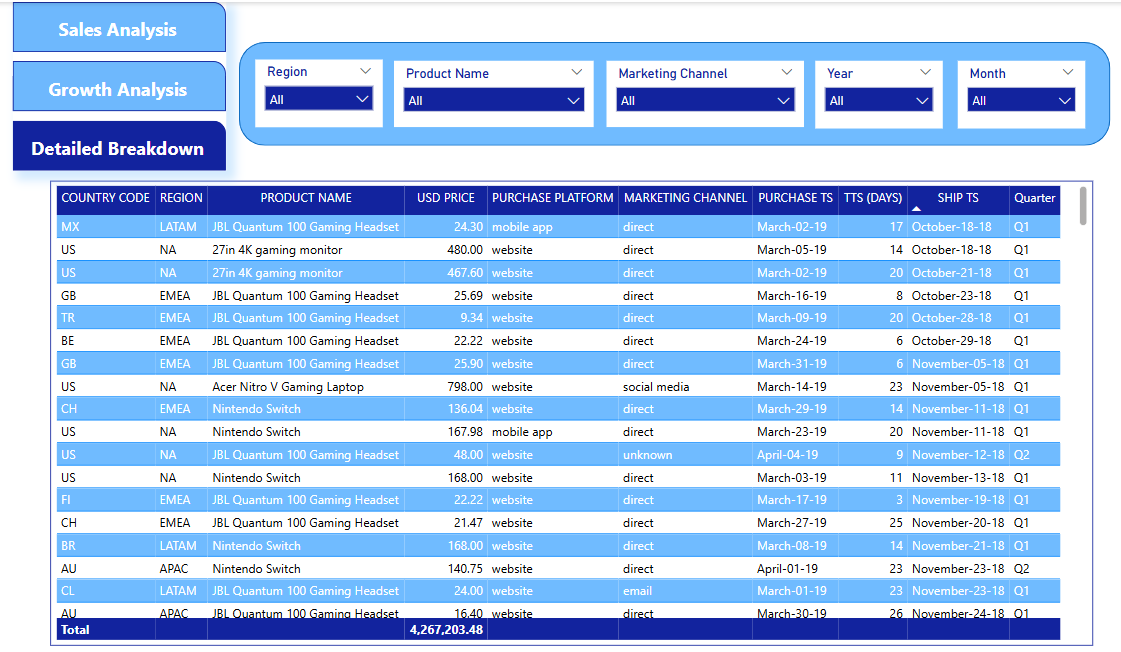

What the dashboard file says about the page in this screenshot:
{"tool":"powerbi","page":{"name":"Detailed Breakdown","canvas":[1280,720],"ordinal":2},"visuals":[{"type":"shape","box":[290.9,43.9,956.4,113.9],"z":0},{"type":"tableEx","fields":{"Values":["orders_cleaned.COUNTRY_CODE_CLEANED","region_cleaned.REGION","orders_cleaned.PRODUCT_NAME_CLEANED","Sum(orders_cleaned.USD_PRICE)","orders_cleaned.PURCHASE_PLATFORM","orders_cleaned.MARKETING_CHANNEL","orders_cleaned.PURCHASE_TS","orders_cleaned.TimeToShip(DAYS)","orders_cleaned.SHIP_TS","Date.Quarter"]},"box":[83.7,196.2,1144.4,510.5],"z":1000},{"type":"pageNavigator","box":[42.5,0,234.6,185.2],"z":2000},{"type":"slicer","fields":{"Values":["orders_cleaned.Year"]},"box":[924.1,64.5,140,74.1],"z":3000},{"type":"slicer","fields":{"Values":["orders_cleaned.Month"]},"box":[1080.5,64.5,140,74.1],"z":4000},{"type":"slicer","fields":{"Values":["region_cleaned.REGION"]},"box":[309.3,63.1,140,74.1],"z":5000},{"type":"slicer","fields":{"Values":["orders_cleaned.MARKETING_CHANNEL"]},"box":[694.9,64.5,216.8,72.7],"z":6000},{"type":"slicer","fields":{"Values":["orders_cleaned.PRODUCT_NAME_CLEANED"]},"box":[461.6,64.5,219.6,72.7],"z":7000}]}

Visuals, with their boxes on the page's 1280x720 design canvas (x1, y1, x2, y2). These are canvas units, not pixel positions in the 1121x652 screenshot, which may show the page scaled, cropped or inside an application window:
shape: region(291, 44, 1247, 158)
tableEx - orders_cleaned.COUNTRY_CODE_CLEANED x region_cleaned.REGION: region(84, 196, 1228, 707)
pageNavigator: region(42, 0, 277, 185)
slicer - orders_cleaned.Year: region(924, 64, 1064, 139)
slicer - orders_cleaned.Month: region(1080, 64, 1220, 139)
slicer - region_cleaned.REGION: region(309, 63, 449, 137)
slicer - orders_cleaned.MARKETING_CHANNEL: region(695, 64, 912, 137)
slicer - orders_cleaned.PRODUCT_NAME_CLEANED: region(462, 64, 681, 137)
